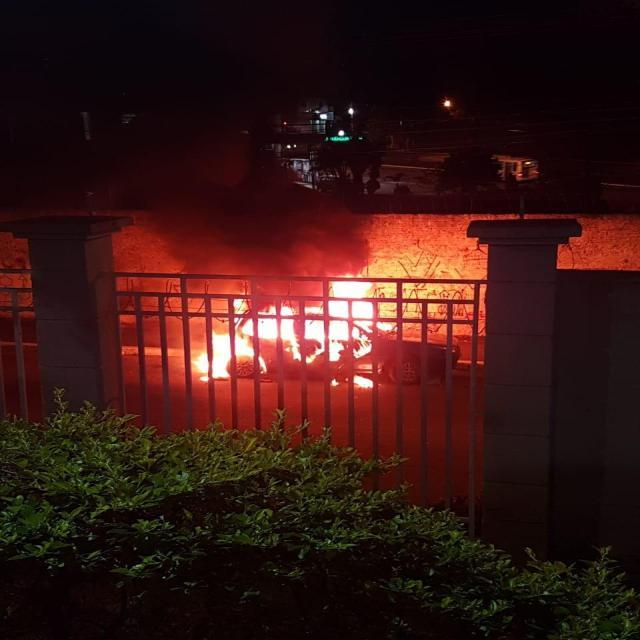Fire: (192, 274, 392, 390)
Smoke: (122, 134, 377, 314)
